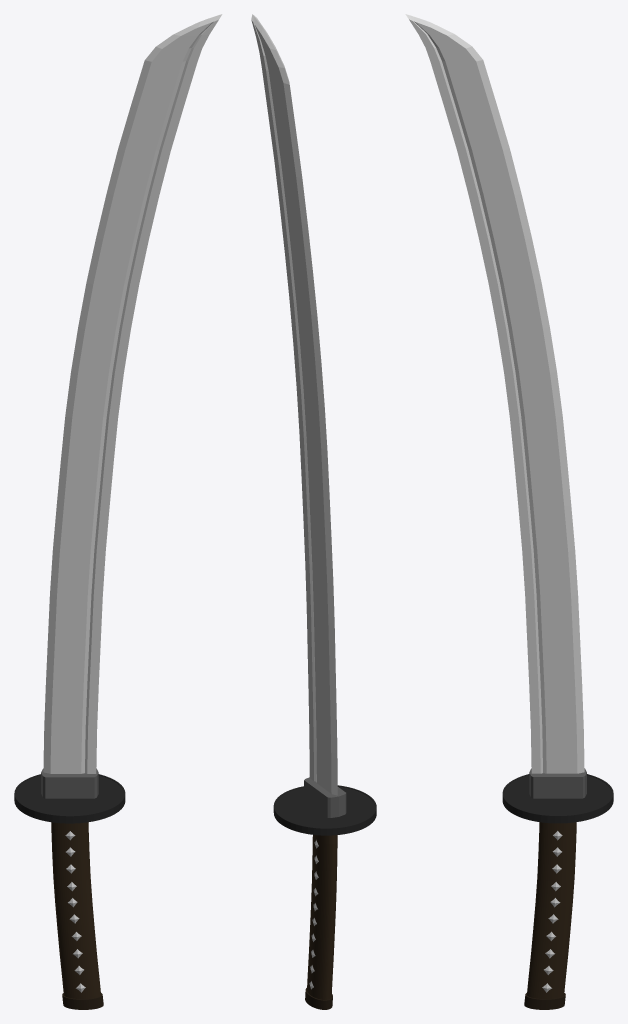
Rendered from Weebstick.fbx.
The picture shows the model from 3 angles, left to right: view 1: azimuth 90°, elevation 25°; view 2: azimuth 210°, elevation 25°; view 3: azimuth 270°, elevation 25°; orthographic projection. The views are drawn at different scales.
Visible parts, largest first — view 1: Cylinder; view 2: Cylinder; view 3: Cylinder.
Part boxes in pixels (left/top/right/bottom): Cylinder: left=14, top=14, right=222, bottom=1009; Cylinder: left=251, top=14, right=376, bottom=1009; Cylinder: left=405, top=14, right=613, bottom=1009.
Bounding box in the file's own units: 215 × 2181 × 415.
